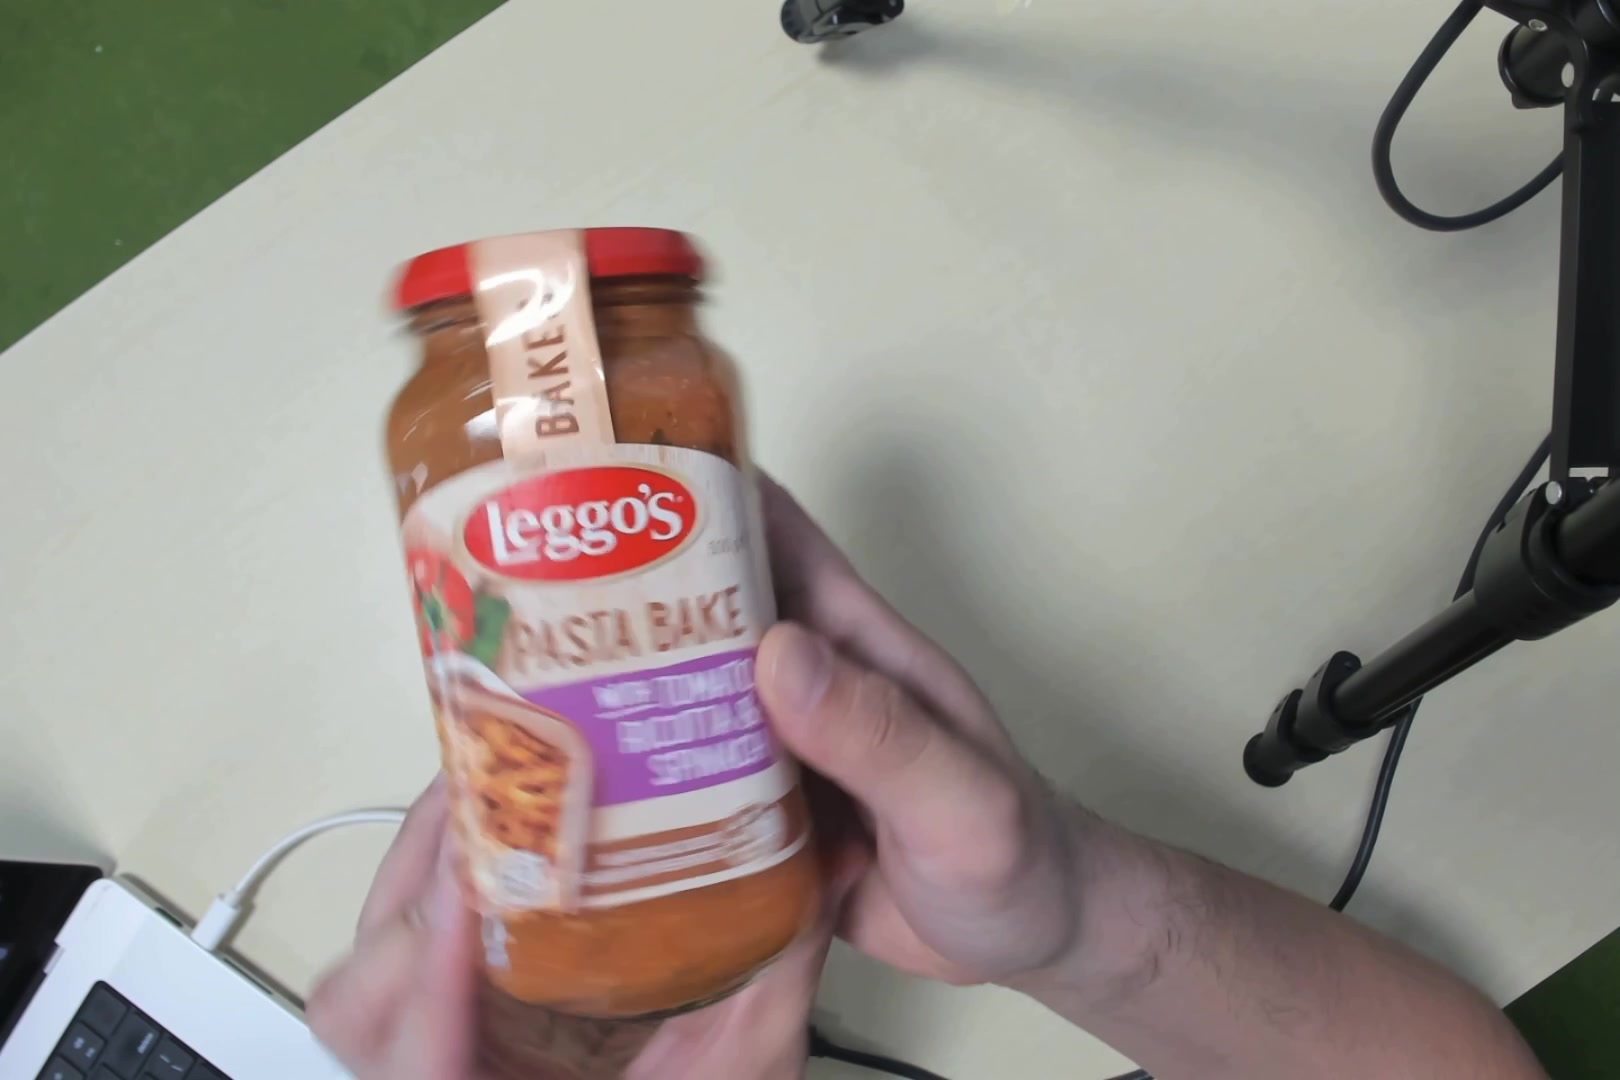Pasta_500-599g_Halal_NonHealthy: (445, 196, 777, 984)
